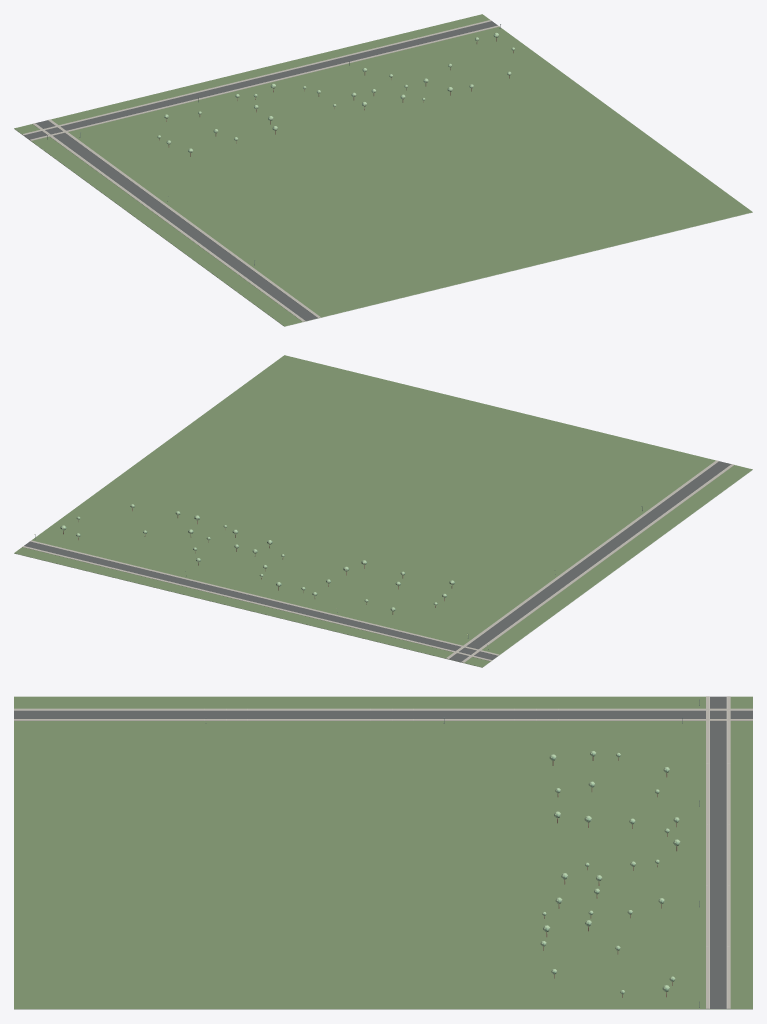
File: chunk_4_2_high.glb
3 renders of one model, top to bottom at view 1: azimuth 30°, elevation 25°; view 2: azimuth 150°, elevation 25°; view 3: azimuth 270°, elevation 25°, orthographic. The views are drawn at different scales.
Parts seen in each view (by area): view 1: city_forest_floor, city_world_asphalt, city_world_sidewalk, city_curb, city_grass; view 2: city_forest_floor, city_world_asphalt, city_world_sidewalk, city_curb, city_grass; view 3: city_forest_floor, city_world_asphalt, city_world_sidewalk, city_curb, city_foliage, city_grass.
Part boxes in pixels (box(x1,y1,x2,y2)): city_forest_floor: box(14, 14, 752, 326); city_world_asphalt: box(24, 21, 497, 320); city_world_sidewalk: box(22, 20, 499, 321); city_curb: box(23, 21, 495, 320); city_grass: box(14, 129, 752, 326); city_forest_floor: box(14, 355, 752, 667); city_world_asphalt: box(24, 461, 731, 661); city_world_sidewalk: box(22, 460, 734, 662); city_curb: box(24, 461, 731, 661); city_grass: box(14, 470, 752, 667); city_forest_floor: box(14, 696, 752, 1008); city_world_asphalt: box(14, 696, 752, 1008); city_world_sidewalk: box(14, 696, 752, 1008); city_curb: box(14, 696, 752, 1008); city_foliage: box(540, 751, 680, 994); city_grass: box(14, 1009, 752, 1009).
Bounding box in the file's own units: 512 × 9.48 × 512.
